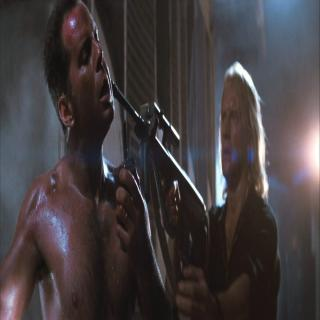gun: (102, 53, 216, 320)
